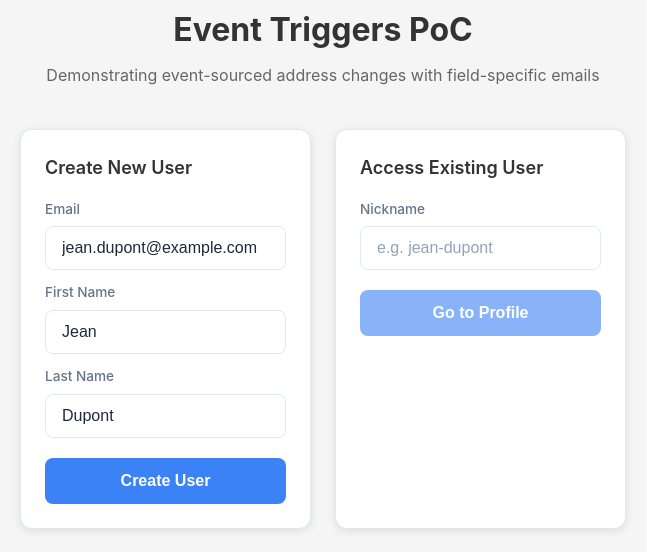
Test: Home › disables submit button while loading
Click the button "Create User": (166, 481) left=45, top=458, right=286, bottom=504
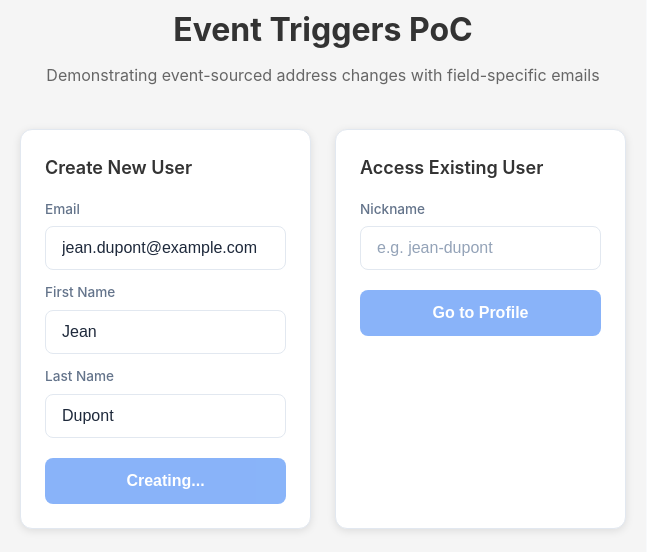
Result: the button "Creating..." is disabled at left=45, top=458, right=286, bottom=504
